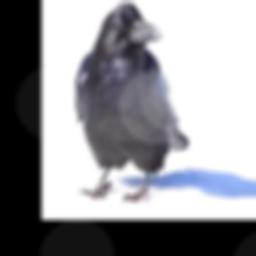Crow: (75, 0, 192, 203)
